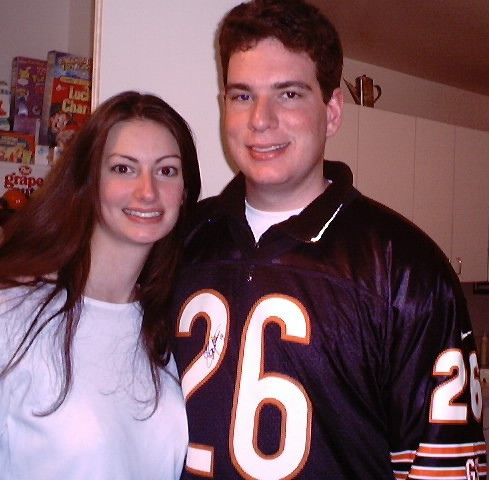without_mask: (215, 32, 342, 185), (94, 106, 193, 241)
